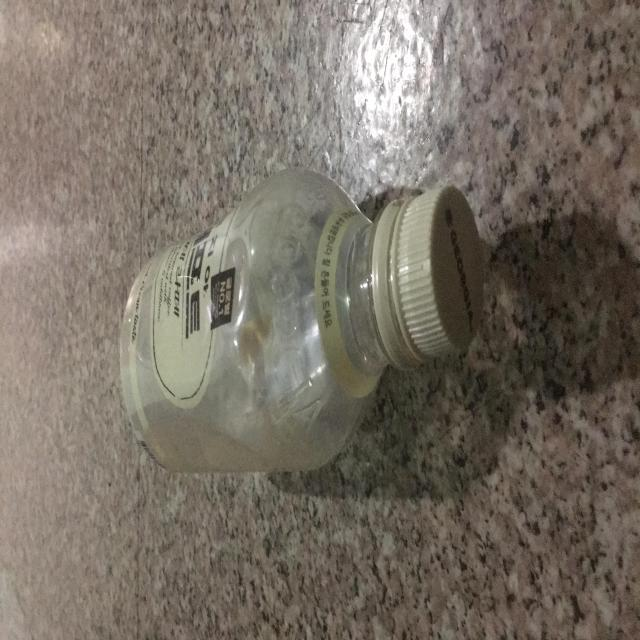bottle: (117, 156, 488, 475)
